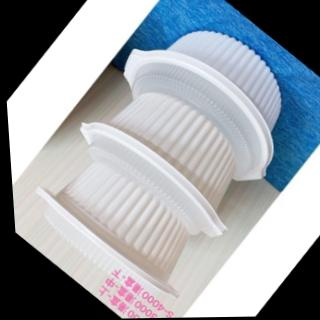plastic: (113, 0, 319, 189), (38, 123, 223, 317), (64, 93, 234, 272)
